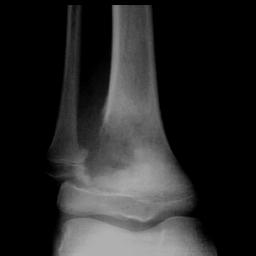cancer: (81, 119, 136, 188)
